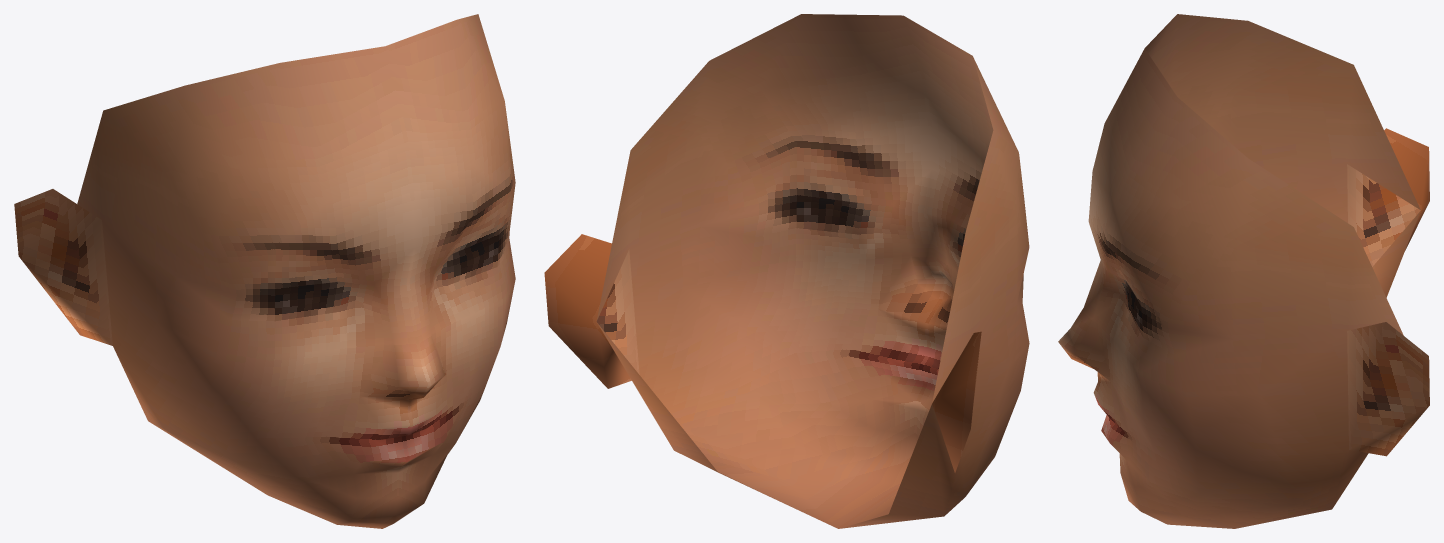
3 renders of one model, left to right at view 1: azimuth 30°, elevation 25°; view 2: azimuth 150°, elevation 25°; view 3: azimuth 270°, elevation 25°, orthographic. The views are drawn at different scales.
Parts seen in each view (by area): view 1: editpl_f-0000-1868, editpl_f-0000-1867; view 2: editpl_f-0000-1868, editpl_f-0000-1867; view 3: editpl_f-0000-1868, editpl_f-0000-1867.
Boxes of the visible parts, <box> form: editpl_f-0000-1868: <box>14,14,515,402</box>; editpl_f-0000-1867: <box>102,220,515,528</box>; editpl_f-0000-1868: <box>544,14,1029,472</box>; editpl_f-0000-1867: <box>596,249,1029,528</box>; editpl_f-0000-1868: <box>1058,14,1429,456</box>; editpl_f-0000-1867: <box>1058,164,1420,528</box>.
Size of the model in its own units: 19.4 by 20.15 by 14.59.
